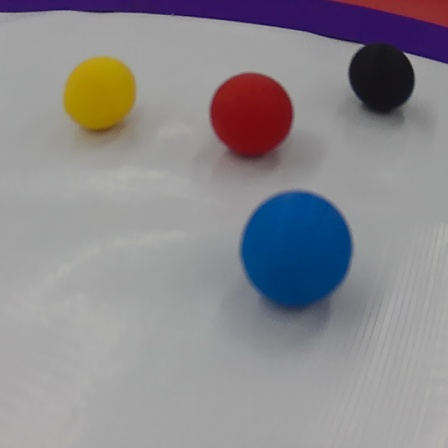black: (344, 41, 416, 117)
blue: (237, 192, 354, 309)
red: (203, 71, 303, 158)
red_aim: (2, 0, 448, 70)
yellow: (62, 46, 142, 140)
